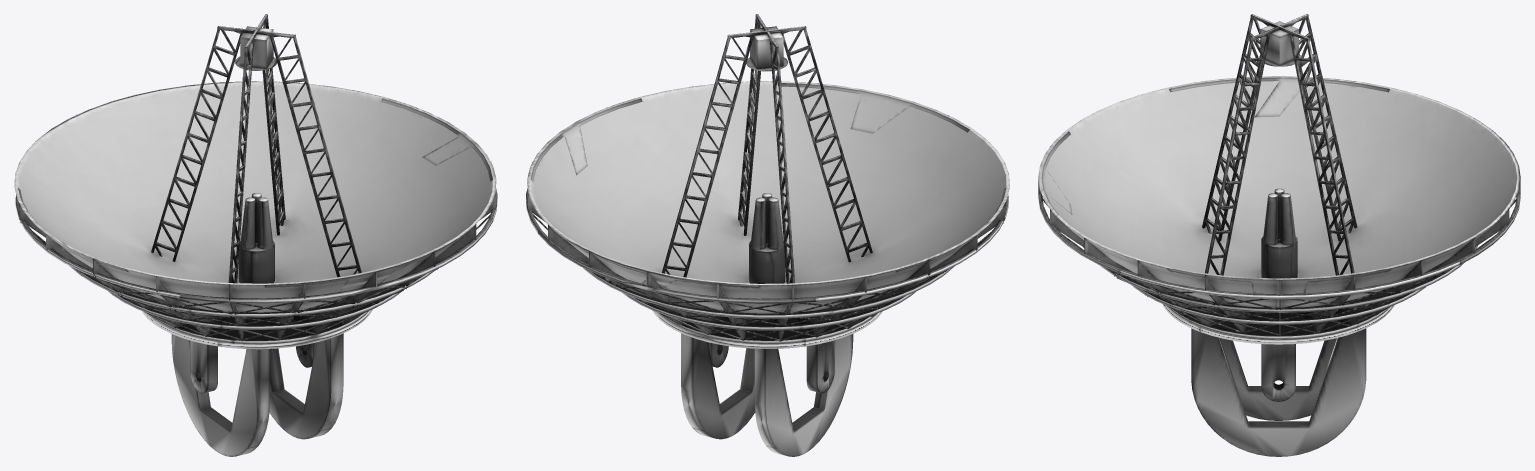
3 views of the same model, side by side, from view 1: azimuth 30°, elevation 25°; view 2: azimuth 150°, elevation 25°; view 3: azimuth 270°, elevation 25° (orthographic).
Parts seen in each view (by area): view 1: 70m_rev_e; view 2: 70m_rev_e; view 3: 70m_rev_e.
Boxes of the visible parts, x1,y1,x2,y2 form: 70m_rev_e: (14,14,497,456); 70m_rev_e: (526,14,1009,456); 70m_rev_e: (1038,14,1520,456).
Bounding box in the file's own units: 91.57 × 85.54 × 91.32.
1 material, 1 textured.
